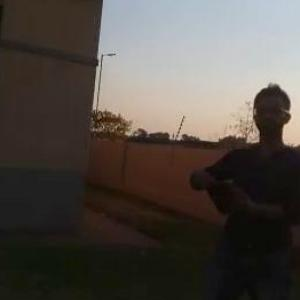follow: (184, 77, 299, 299)
